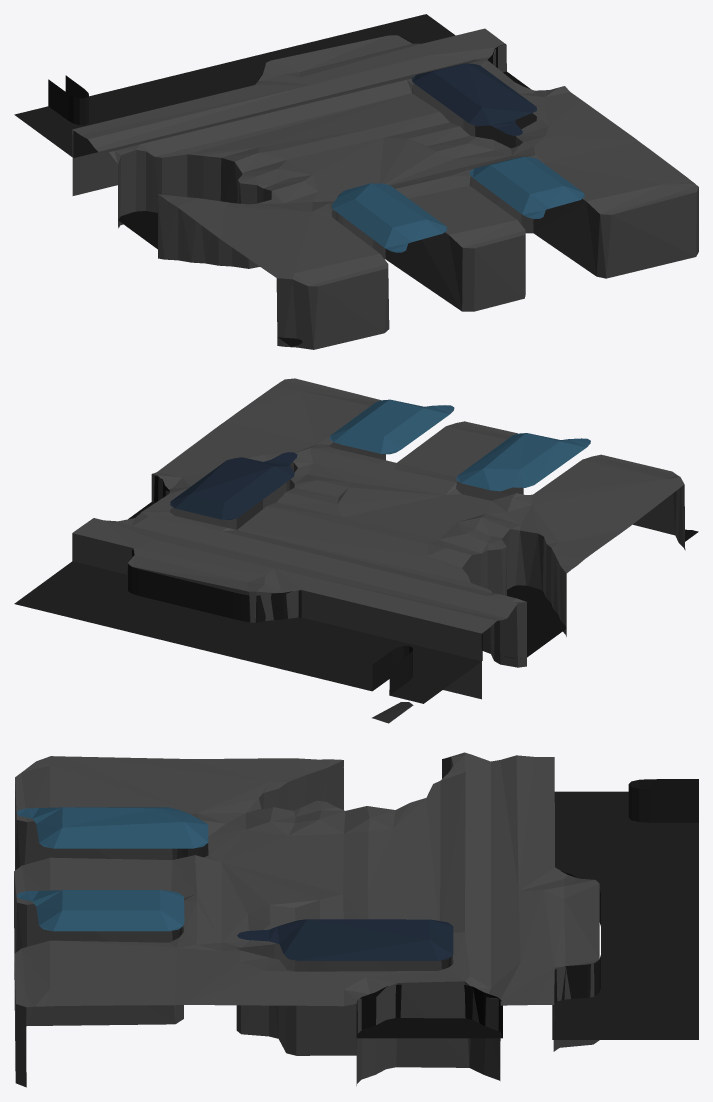
The model's file is newsho-89.glb.
3 renders of one model, top to bottom at view 1: azimuth 30°, elevation 25°; view 2: azimuth 150°, elevation 25°; view 3: azimuth 270°, elevation 25°, orthographic. The views are drawn at different scales.
Visible parts, largest first — view 1: newsho-89; view 2: newsho-89; view 3: newsho-89.
Boxes of the visible parts, x1,y1,x2,y2 form: newsho-89: [14, 14, 698, 349]; newsho-89: [14, 378, 698, 723]; newsho-89: [14, 752, 698, 1087].
Bounding box in the file's own units: 2 × 0.4004 × 2.33.
